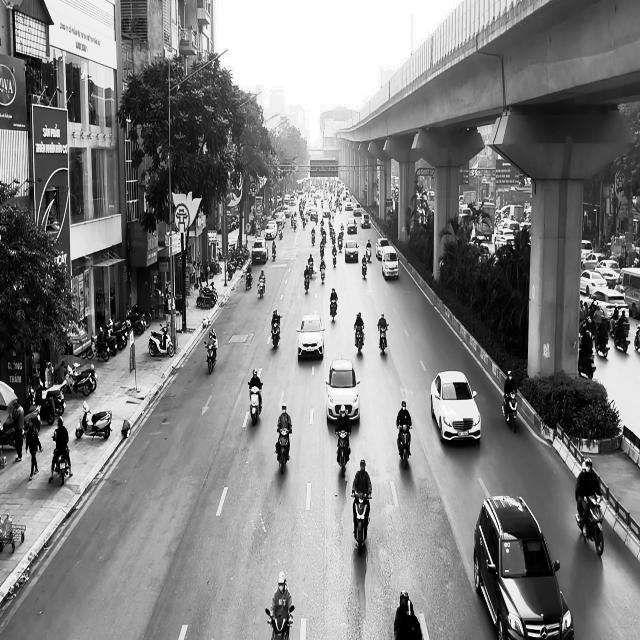car: (473, 494, 574, 640), (430, 370, 481, 443), (325, 358, 360, 424), (296, 312, 325, 360), (381, 248, 399, 280), (344, 239, 359, 262)
motorbike: (575, 493, 604, 556), (75, 400, 112, 440), (351, 491, 372, 554), (50, 436, 72, 486), (266, 605, 294, 639), (334, 428, 350, 478), (276, 426, 292, 474), (502, 390, 518, 432), (248, 382, 263, 426), (397, 423, 411, 469), (204, 340, 216, 374), (271, 316, 281, 348), (378, 324, 388, 355), (354, 325, 364, 355), (329, 299, 338, 322), (257, 279, 265, 299), (361, 256, 367, 279)
